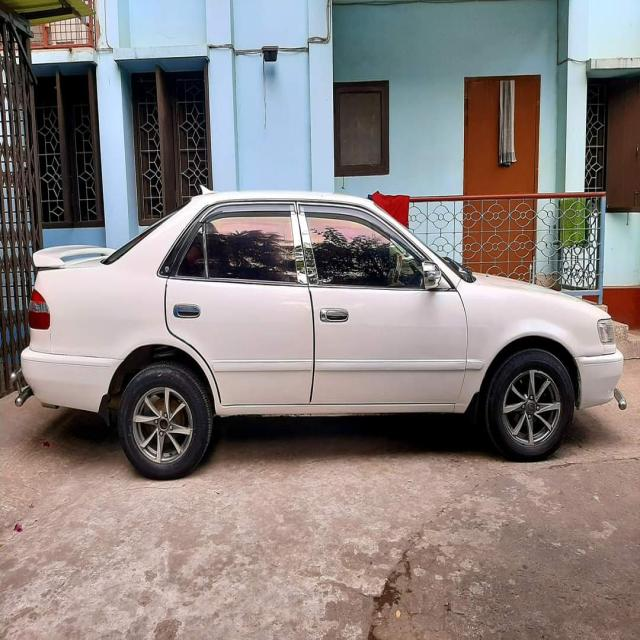white: (24, 184, 632, 465)
